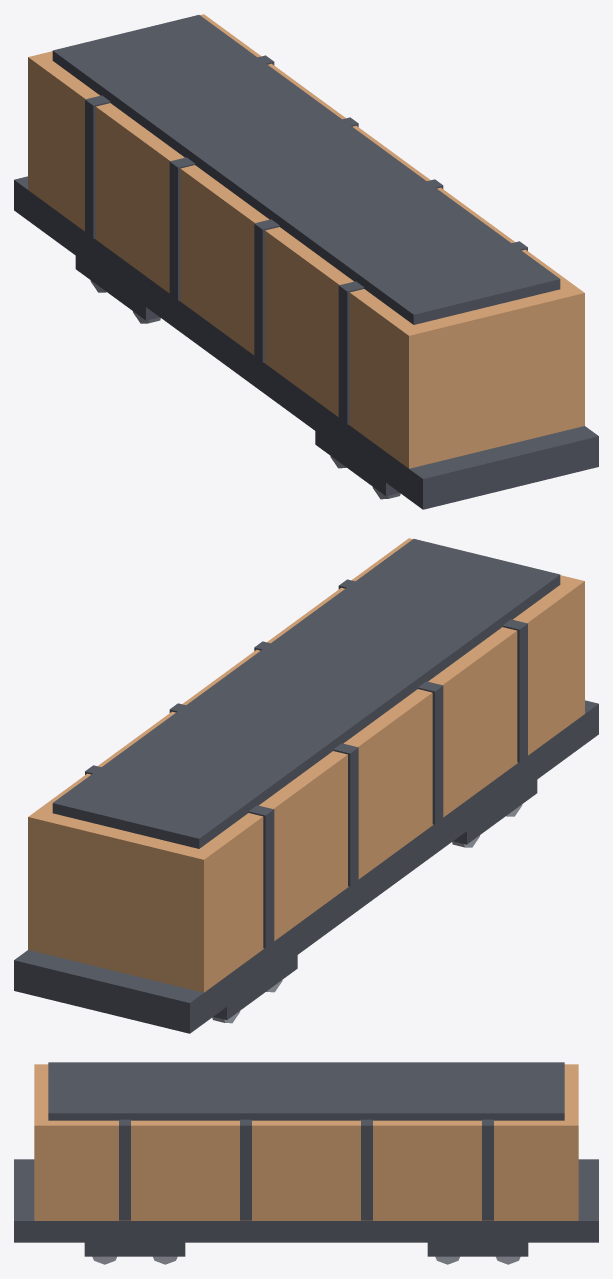
File: vagao_carga_sem_textura.glb
The picture shows the model from 3 angles, top to bottom: view 1: azimuth 30°, elevation 25°; view 2: azimuth 150°, elevation 25°; view 3: azimuth 270°, elevation 25°; orthographic projection. The views are drawn at different scales.
Parts seen in each view (by area): view 1: vagao_carga_corpo, vagao_carga_truque1, vagao_carga_truque0; view 2: vagao_carga_corpo, vagao_carga_truque0, vagao_carga_truque1; view 3: vagao_carga_corpo, vagao_carga_truque0, vagao_carga_truque1.
Boxes of the visible parts, <box> form: vagao_carga_corpo: <box>14,14,598,509</box>; vagao_carga_truque1: <box>75,256,160,323</box>; vagao_carga_truque0: <box>315,431,400,499</box>; vagao_carga_corpo: <box>14,538,598,1033</box>; vagao_carga_truque0: <box>452,780,537,847</box>; vagao_carga_truque1: <box>212,955,297,1023</box>; vagao_carga_corpo: <box>14,1062,598,1242</box>; vagao_carga_truque0: <box>84,1242,185,1264</box>; vagao_carga_truque1: <box>427,1242,528,1264</box>.
Size of the model in its own units: 0.74 by 0.84 by 2.9.
